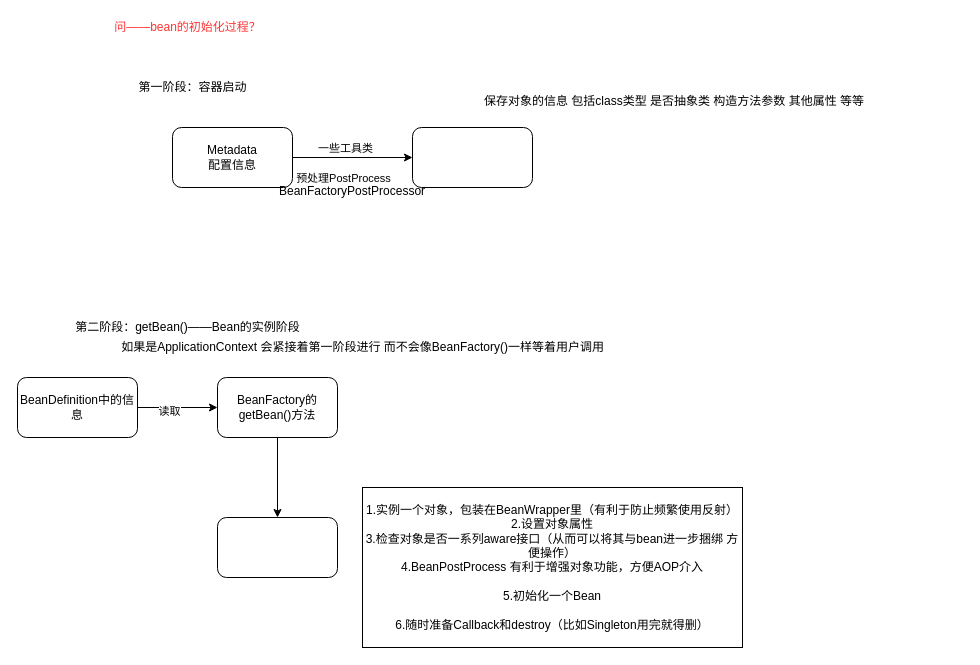
The diagram is 980 pixels wide and 665 high, and some of its shapes have lost their labels. Each missing label, with the centre of its shape:
BeanDefinition接口 的实现类: point (472, 157)
产生Bean: point (277, 547)
